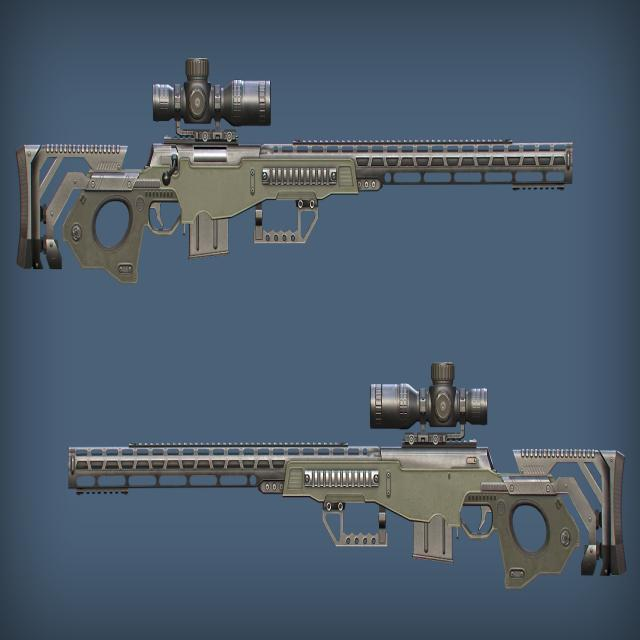Rifle: (65, 363, 629, 593), (18, 59, 576, 285)
